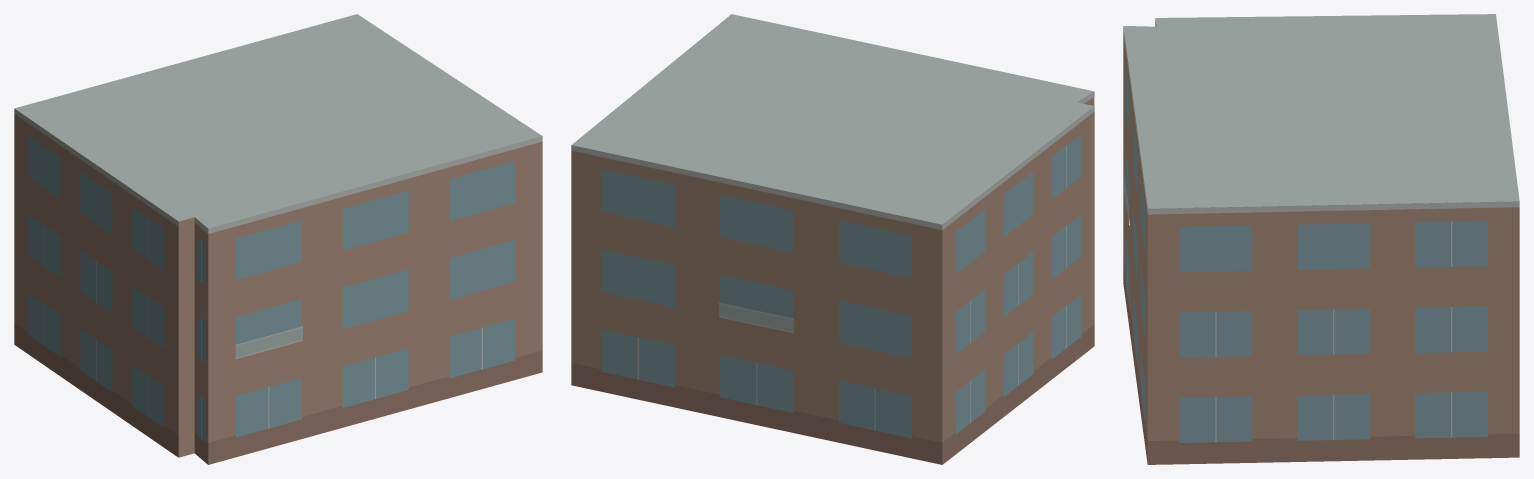
The model's file is survey-upis-32895632.glb.
3 views of the same model, side by side, from view 1: azimuth 30°, elevation 25°; view 2: azimuth 150°, elevation 25°; view 3: azimuth 270°, elevation 25° (orthographic). The views are drawn at different scales.
Visible parts, largest first — view 1: survey-upis-32895632.tmp; view 2: survey-upis-32895632.tmp; view 3: survey-upis-32895632.tmp.
Part boxes in pixels (x1,y1,x2,y2): survey-upis-32895632.tmp: (14, 14, 542, 464); survey-upis-32895632.tmp: (571, 14, 1094, 464); survey-upis-32895632.tmp: (1123, 14, 1519, 464).
Bounding box in the file's own units: 17.37 × 10.65 × 14.95.
